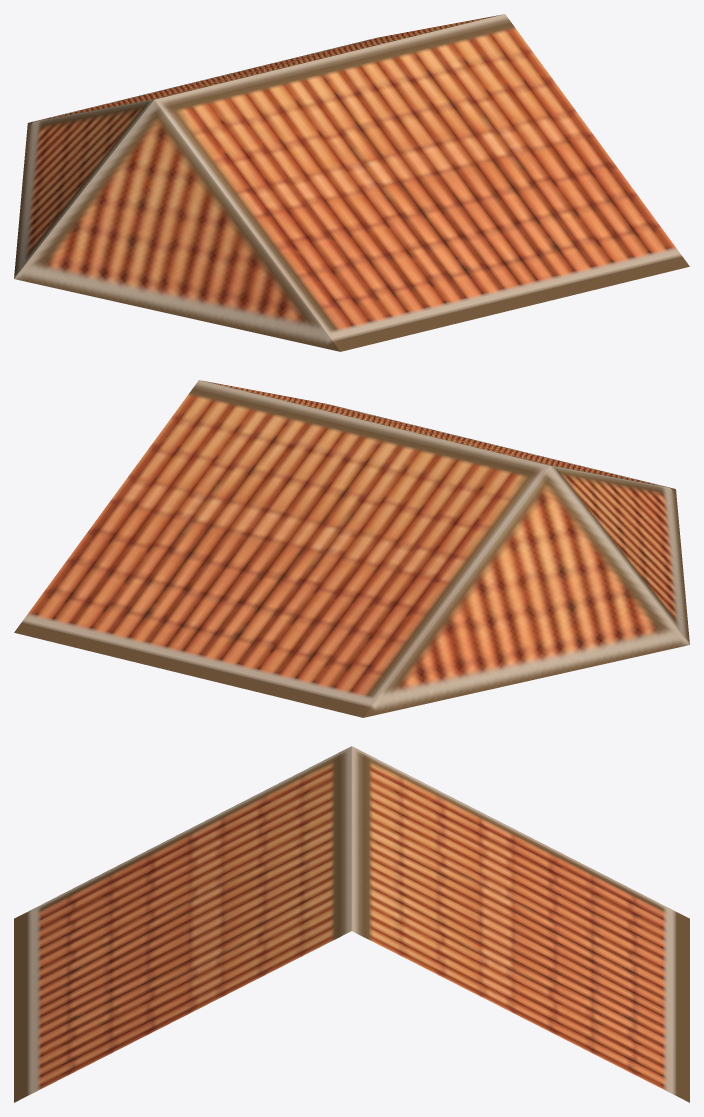
The model's file is DuoiGiua.glb.
3 views of the same model, one above another, from view 1: azimuth 30°, elevation 25°; view 2: azimuth 150°, elevation 25°; view 3: azimuth 270°, elevation 25° (orthographic). The views are drawn at different scales.
Visible parts, largest first — view 1: Object_4.002; view 2: Object_4.002; view 3: Object_4.002.
Boxes of the visible parts, x1,y1,x2,y2 form: Object_4.002: (14, 14, 689, 351); Object_4.002: (14, 380, 689, 717); Object_4.002: (14, 746, 689, 1102).
Bounding box in the file's own units: 0.3262 × 0.0871 × 0.3401.
Materials: 1 (1 with a texture image).
